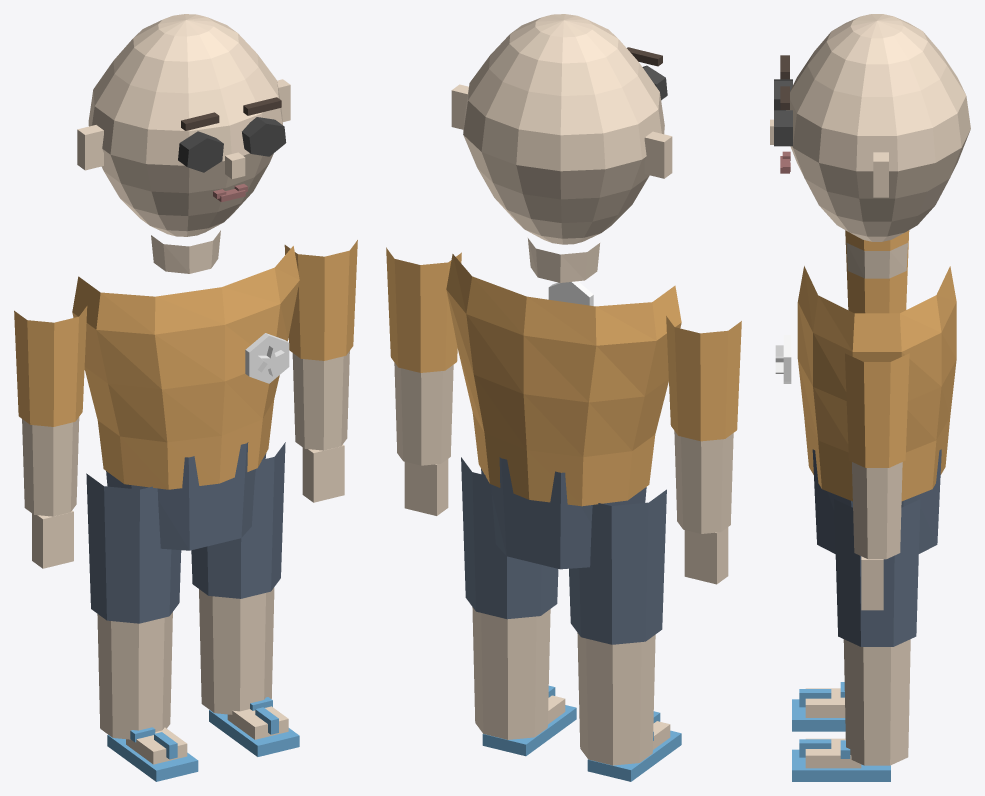
Rendered from body.glb.
3 views of the same model, side by side, from view 1: azimuth 30°, elevation 25°; view 2: azimuth 150°, elevation 25°; view 3: azimuth 270°, elevation 25° (orthographic). The views are drawn at different scales.
Parts seen in each view (by area): view 1: torso, skull, thighR, shinL, shinR, thighL, upperR, pelvis, upperL, foreL, foreR, handL (+10 smaller); view 2: torso, skull, thighR, shinR, shinL, thighL, upperR, pelvis, upperL, foreL, foreR, handR (+6 smaller); view 3: skull, torso, thighL, shinL, upperL, foreL, upperR, pelvis, neckMesh, soleL, handL, toesL (+6 smaller).
Boxes of the visible parts, x1,y1,x2,y2 form: torso: (72, 246, 299, 489); skull: (88, 14, 282, 236); thighR: (86, 473, 181, 623); shinL: (199, 587, 274, 714); shinR: (97, 612, 172, 739); thighL: (191, 442, 285, 598); upperR: (14, 306, 87, 426); pelvis: (106, 442, 266, 550); upperL: (284, 240, 357, 360); foreL: (292, 351, 349, 450); foreR: (22, 417, 79, 516); handL: (302, 444, 344, 502); torso: (446, 254, 681, 506); skull: (463, 14, 664, 244); thighR: (569, 489, 666, 644); shinR: (577, 632, 655, 765); shinL: (472, 607, 550, 739); thighL: (461, 457, 558, 619); upperR: (666, 316, 741, 441); pelvis: (481, 457, 646, 569); upperL: (386, 247, 461, 372); foreL: (394, 362, 453, 465); foreR: (674, 431, 733, 533); handR: (684, 527, 728, 584); skull: (786, 14, 970, 241); torso: (775, 266, 956, 501); thighL: (834, 499, 920, 646); shinL: (843, 639, 910, 765); upperL: (845, 353, 909, 467); foreL: (852, 462, 902, 559); upperR: (845, 230, 909, 313); pelvis: (812, 449, 941, 553); neckMesh: (846, 243, 907, 278); soleL: (792, 749, 890, 781); handL: (861, 556, 883, 610); toesL: (805, 738, 861, 768).
Bounding box in the file's own units: 0.4887 × 1.01 × 0.253.
